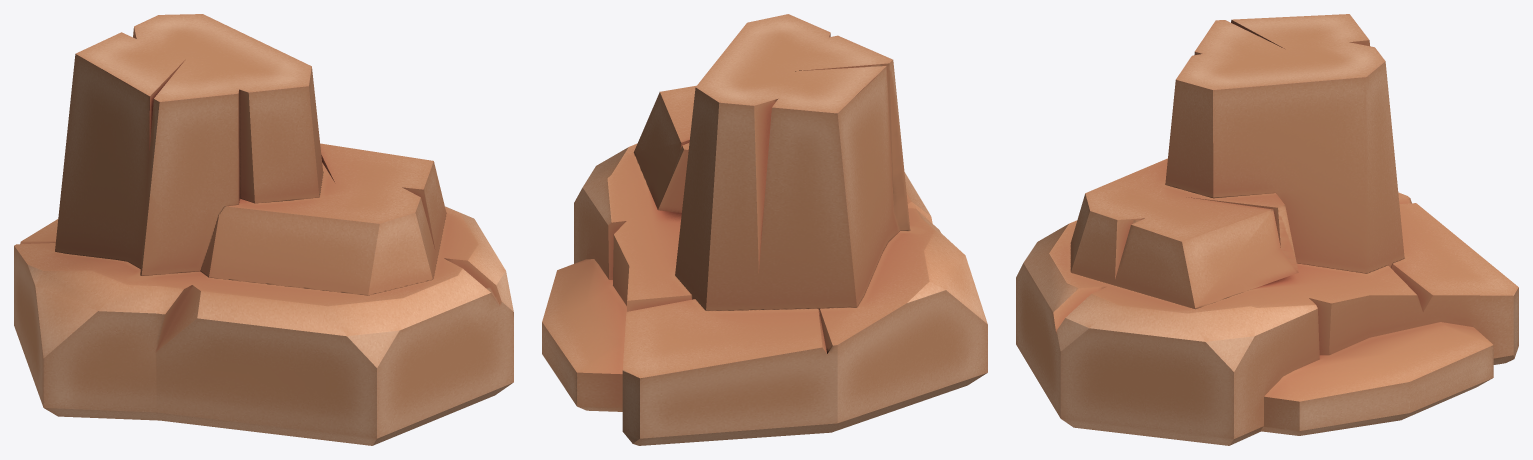
The model's file is rock_10.fbx.
The picture shows the model from 3 angles, left to right: view 1: azimuth 30°, elevation 25°; view 2: azimuth 150°, elevation 25°; view 3: azimuth 270°, elevation 25°; orthographic projection. The views are drawn at different scales.
Visible parts, largest first — view 1: Rock_10; view 2: Rock_10; view 3: Rock_10.
Boxes of the visible parts, bbox=[...] form: Rock_10: bbox=[14, 14, 513, 445]; Rock_10: bbox=[542, 14, 987, 445]; Rock_10: bbox=[1016, 14, 1518, 445].
Bounding box in the file's own units: 267 × 187 × 290.
Materials: 1 (1 with a texture image).
